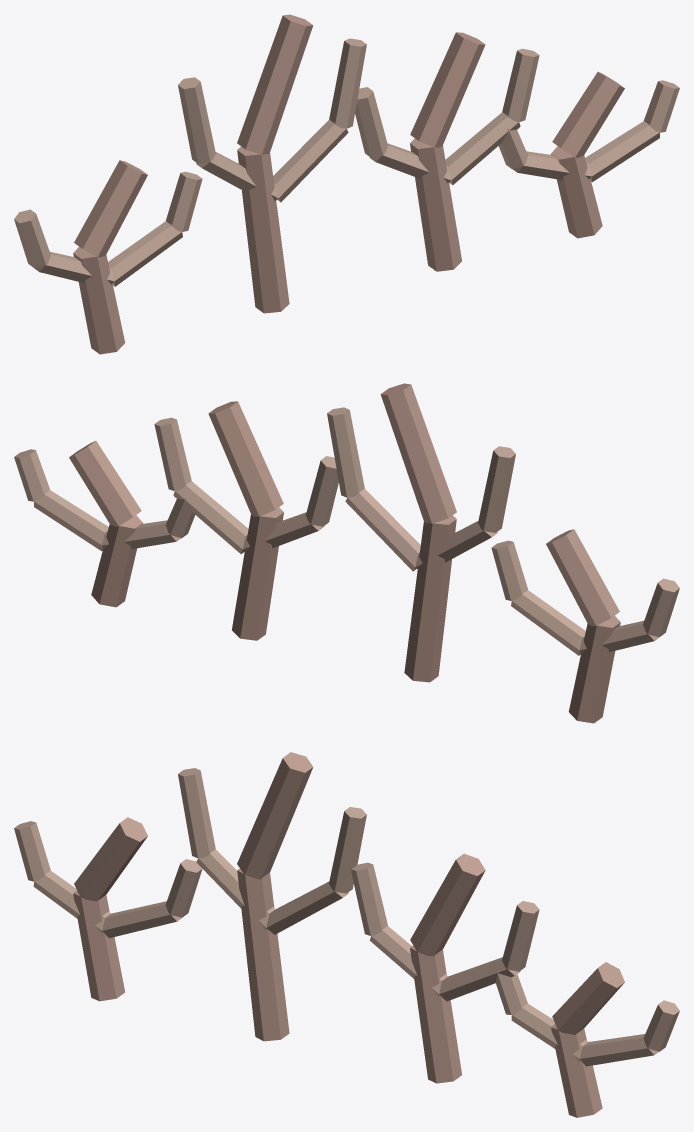
The model's file is map-exclusive-v3__tide_13.glb.
3 renders of one model, top to bottom at view 1: azimuth 30°, elevation 25°; view 2: azimuth 150°, elevation 25°; view 3: azimuth 330°, elevation 25°, orthographic.
Parts seen in each view (by area): view 1: tide_13; view 2: tide_13; view 3: tide_13.
Part boxes in pixels (x1,y1,x2,y2): tide_13: (14, 14, 679, 354); tide_13: (14, 383, 679, 723); tide_13: (14, 752, 679, 1117).
Size of the model in its own units: 3.1 by 1.29 by 0.1401.
